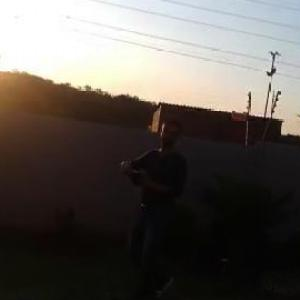follow: (114, 117, 192, 299)
